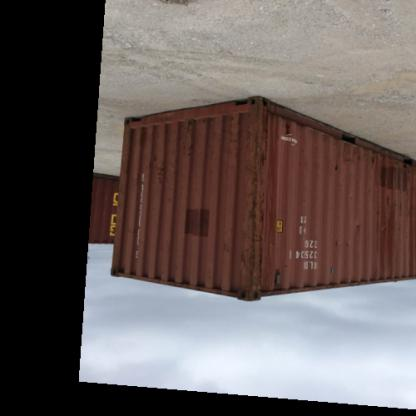Damage: (237, 110, 275, 298), (329, 144, 375, 180), (370, 196, 402, 244), (176, 114, 200, 166), (212, 112, 238, 158), (144, 154, 168, 200), (330, 240, 352, 258), (282, 121, 296, 145), (353, 221, 363, 236)
